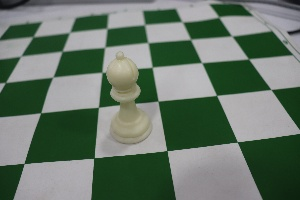white_bishop: (95, 37, 162, 152)
